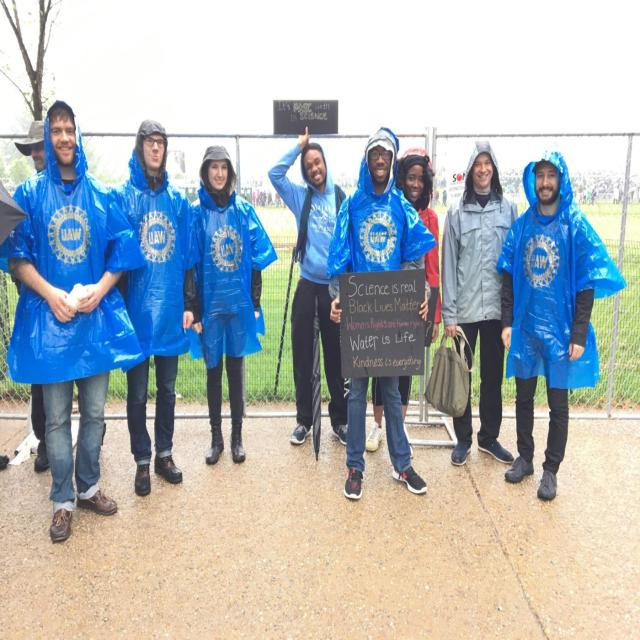body: (0, 95, 149, 546), (492, 146, 630, 504), (328, 125, 433, 503), (108, 118, 201, 498), (13, 116, 108, 476), (177, 142, 280, 470), (439, 138, 520, 469), (266, 125, 348, 448), (360, 150, 442, 461), (566, 169, 640, 209), (245, 178, 307, 209), (496, 169, 525, 199), (335, 176, 358, 194), (434, 186, 447, 208)
